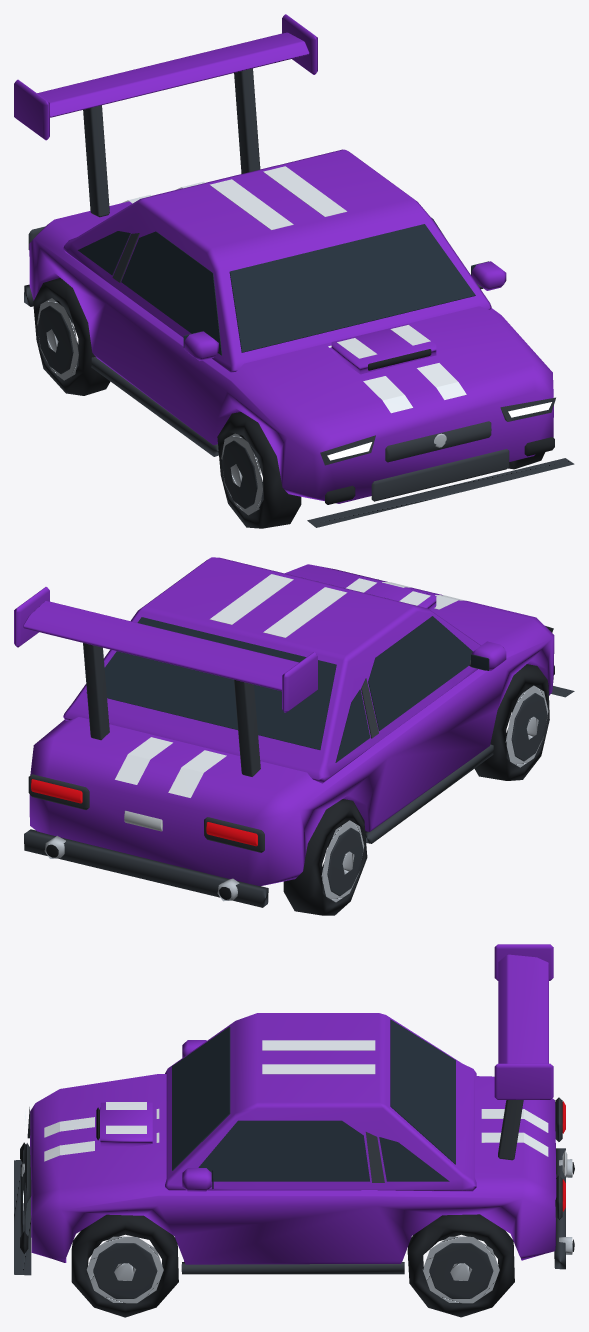
Rendered from NPC_SportCoupe_LOD2.fbx.
3 renders of one model, top to bottom at view 1: azimuth 30°, elevation 25°; view 2: azimuth 150°, elevation 25°; view 3: azimuth 270°, elevation 25°, orthographic. The views are drawn at different scales.
Visible parts, largest first — view 1: NPC_SportCoupe_LOD2; view 2: NPC_SportCoupe_LOD2; view 3: NPC_SportCoupe_LOD2.
Part boxes in pixels (x1,y1,x2,y2): NPC_SportCoupe_LOD2: (14,14,574,528); NPC_SportCoupe_LOD2: (14,557,574,915); NPC_SportCoupe_LOD2: (14,944,574,1317).
Size of the model in its own units: 252 by 215 by 430.
